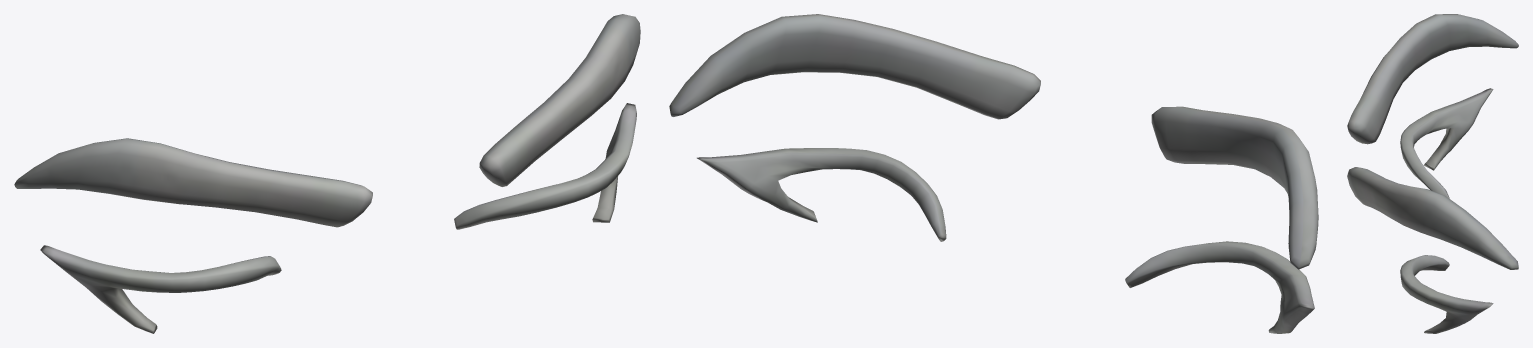
File: Eyebrows_Female.glb
3 views of the same model, side by side, from view 1: azimuth 30°, elevation 25°; view 2: azimuth 150°, elevation 25°; view 3: azimuth 270°, elevation 25° (orthographic). The views are drawn at different scales.
Visible parts, largest first — view 1: Eyebrows_Female; view 2: Eyebrows_Female; view 3: Eyebrows_Female.
Boxes of the visible parts, x1,y1,x2,y2 form: Eyebrows_Female: (14,14,640,333); Eyebrows_Female: (669,14,1318,333); Eyebrows_Female: (1347,14,1518,333).
Size of the model in its own units: 0.126 by 0.0376 by 0.0403.
1 material, 1 textured.
